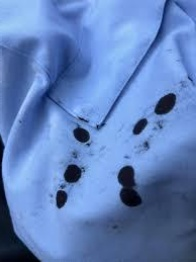ink: (118, 167, 141, 207), (155, 94, 175, 114), (64, 165, 82, 182), (73, 126, 89, 143), (56, 189, 67, 210), (134, 118, 148, 134)
